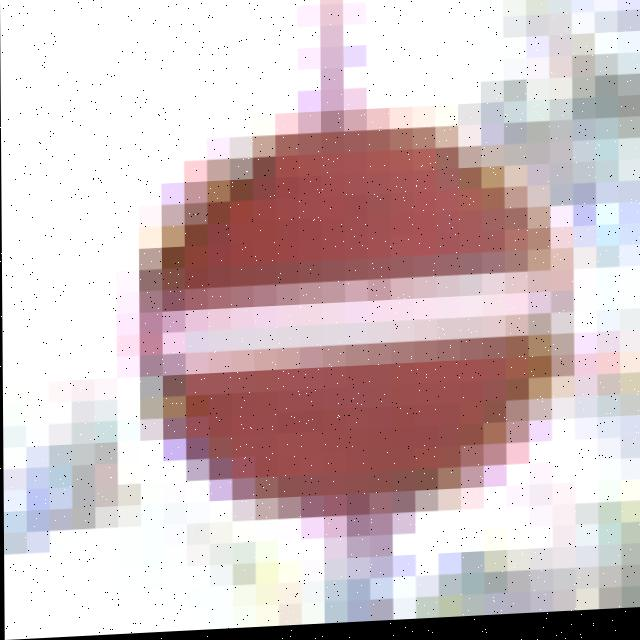road_rough: (131, 61, 578, 546)
